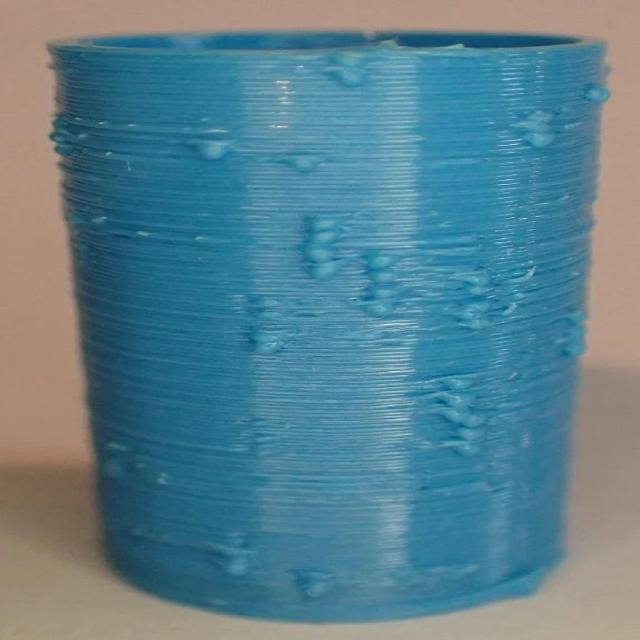spaghetti: (42, 54, 585, 605)
